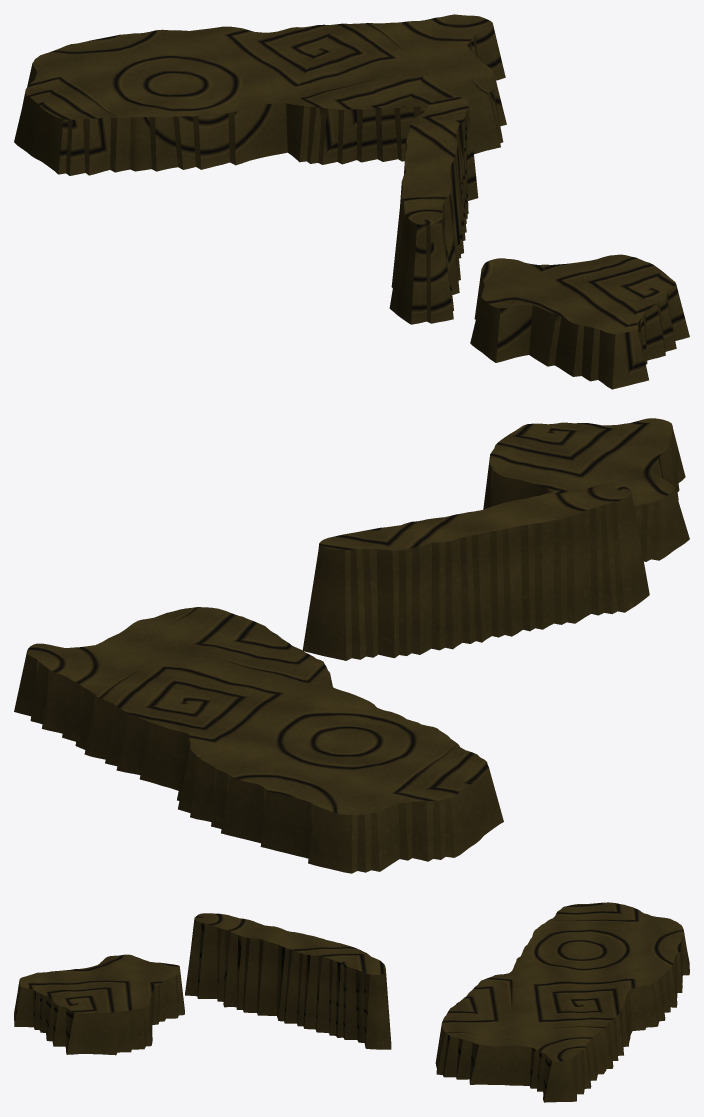
The model's file is CREHenge18.glb.
3 views of the same model, one above another, from view 1: azimuth 30°, elevation 25°; view 2: azimuth 150°, elevation 25°; view 3: azimuth 270°, elevation 25° (orthographic). The views are drawn at different scales.
Parts seen in each view (by area): view 1: CREHenge18_tops; view 2: CREHenge18_tops; view 3: CREHenge18_tops.
Boxes of the visible parts, left/top/right/bottom form: CREHenge18_tops: left=14, top=14, right=689, bottom=389; CREHenge18_tops: left=14, top=418, right=689, bottom=873; CREHenge18_tops: left=14, top=902, right=689, bottom=1102.
Size of the model in its own units: 3.63 by 0.7725 by 6.37.
2 materials, 2 textured.
